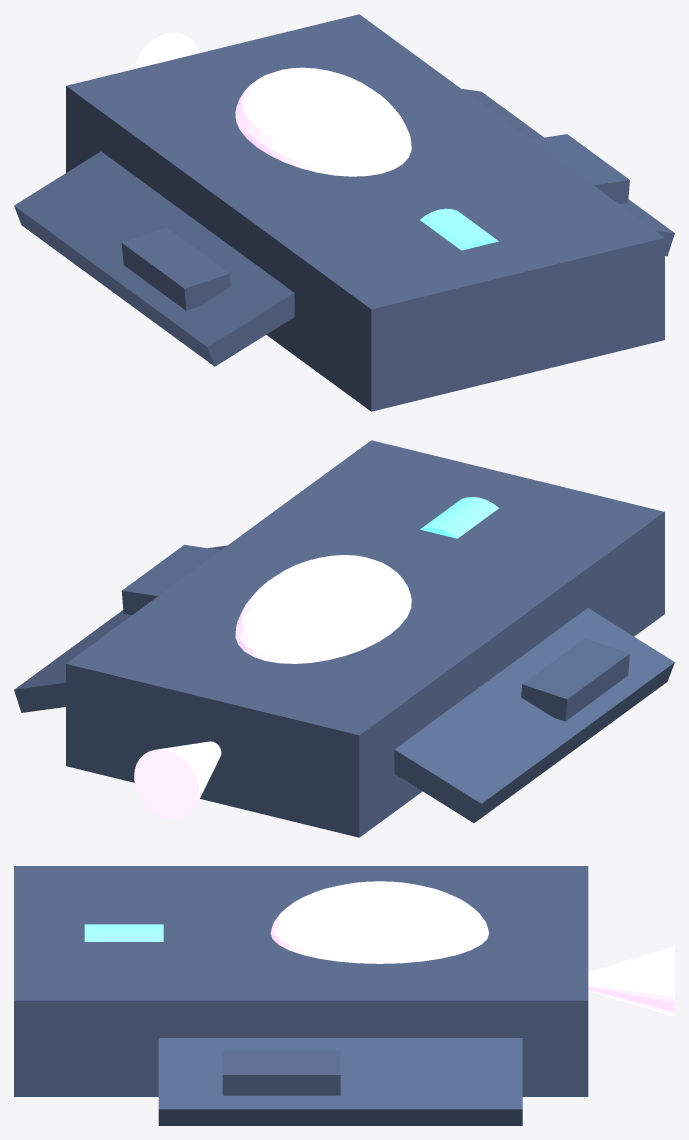
The model's file is valkyrie_t2.glb.
3 views of the same model, one above another, from view 1: azimuth 30°, elevation 25°; view 2: azimuth 150°, elevation 25°; view 3: azimuth 270°, elevation 25° (orthographic). The views are drawn at different scales.
Parts seen in each view (by area): view 1: Cube, Cube.002, Sphere, Cube.005, Cube.004, Cylinder.002, Cube.001, Cone; view 2: Cube, Cube.002, Sphere, Cube.005, Cone, Cube.001, Cube.004, Cylinder.002; view 3: Cube, Cube.001, Sphere, Cube.004, Cone, Cylinder.002.
Part boxes in pixels (x1=…): Cube: x1=66, y1=14, x2=664, y2=411; Cube.002: x1=14, y1=151, x2=294, y2=366; Sphere: x1=235, y1=67, x2=411, y2=176; Cube.005: x1=121, y1=227, x2=230, y2=310; Cube.004: x1=531, y1=134, x2=629, y2=204; Cylinder.002: x1=420, y1=208, x2=498, y2=250; Cube.001: x1=462, y1=89, x2=674, y2=256; Cone: x1=134, y1=32, x2=199, y2=68; Cube: x1=66, y1=440, x2=664, y2=837; Cube.002: x1=394, y1=608, x2=674, y2=822; Sphere: x1=235, y1=555, x2=411, y2=663; Cube.005: x1=521, y1=638, x2=629, y2=721; Cone: x1=134, y1=741, x2=221, y2=819; Cube.001: x1=14, y1=545, x2=227, y2=712; Cube.004: x1=121, y1=544, x2=220, y2=614; Cylinder.002: x1=420, y1=497, x2=498, y2=538; Cube: x1=14, y1=866, x2=588, y2=1096; Cube.001: x1=158, y1=1038, x2=522, y2=1125; Sphere: x1=270, y1=881, x2=489, y2=963; Cube.004: x1=222, y1=1050, x2=340, y2=1095; Cone: x1=588, y1=946, x2=674, y2=1016; Cylinder.002: x1=84, y1=924, x2=163, y2=941.
Bounding box in the file's own units: 2.58 × 0.78 × 3.36.
